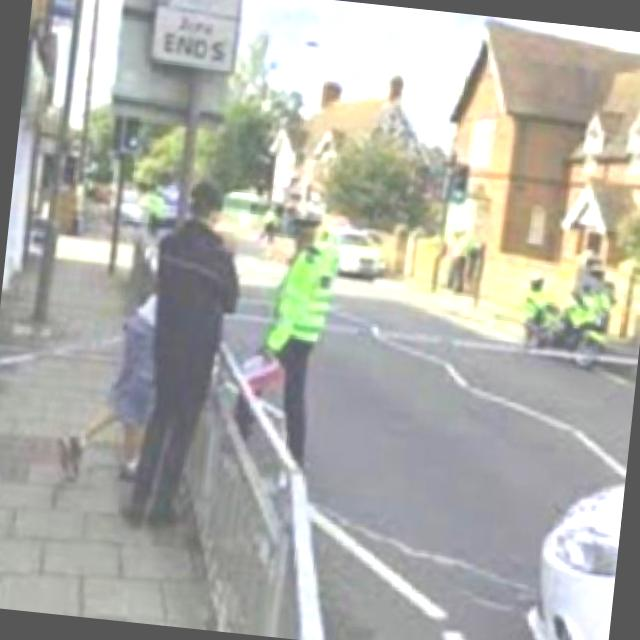Person: (116, 171, 256, 554), (246, 200, 360, 468)
